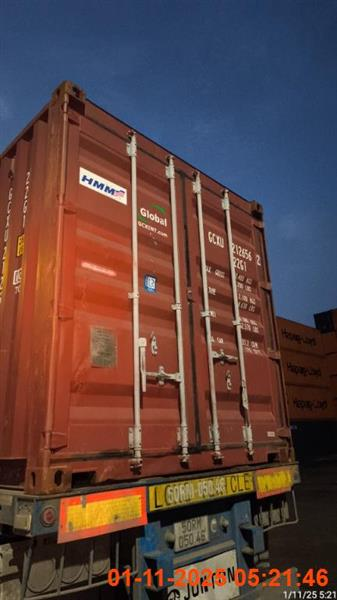broken: (1, 80, 301, 599)
